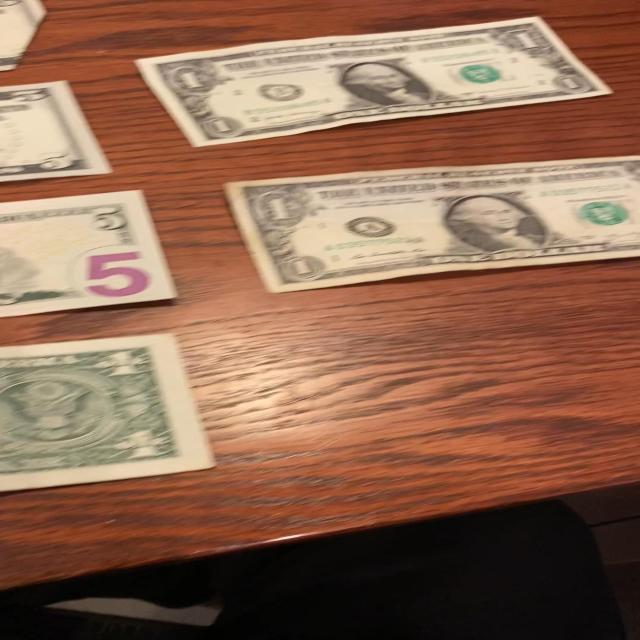1-Back: (0, 332, 219, 496)
1-Front: (130, 15, 612, 150), (221, 151, 640, 295)
5-Back: (0, 189, 185, 320)
5-Front: (0, 70, 113, 181)
